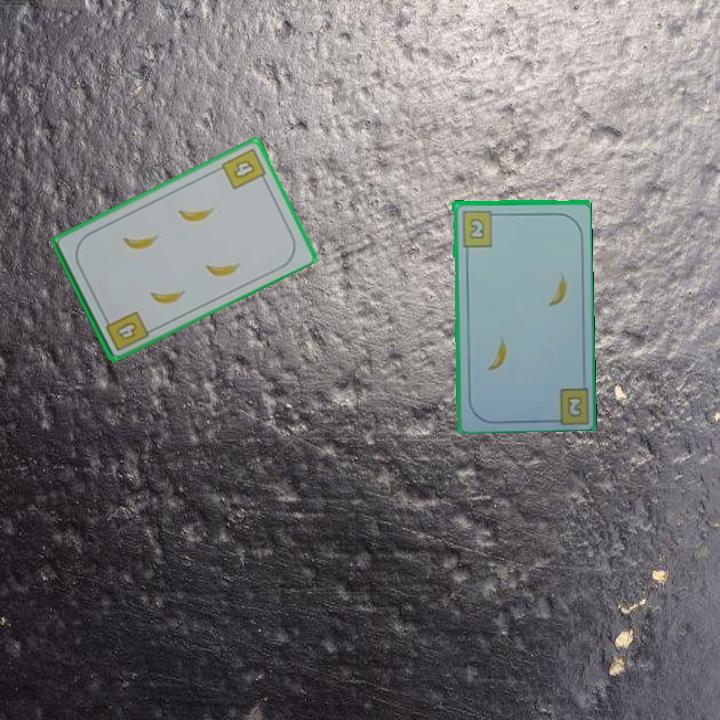2b: (458, 207, 500, 249), (563, 392, 585, 420)
4b: (218, 144, 270, 192), (100, 307, 152, 354)
